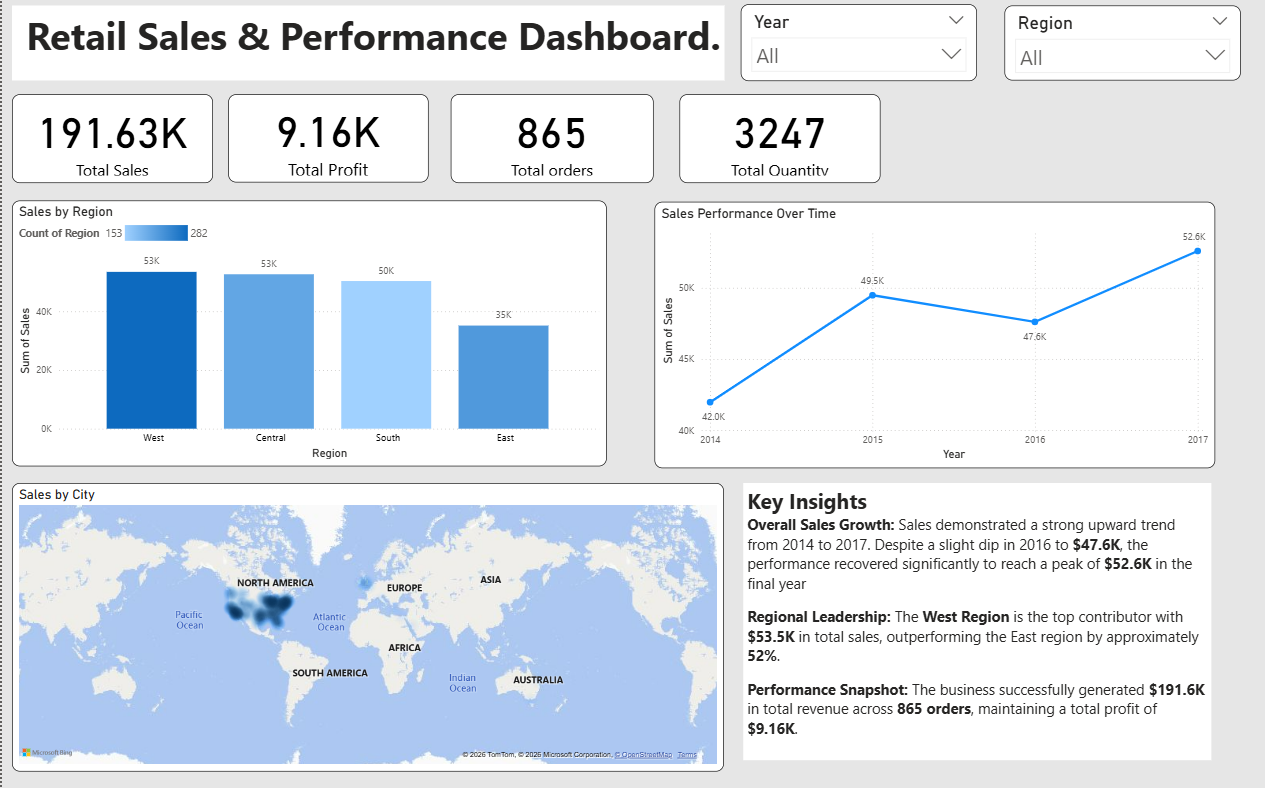

What the dashboard file says about the page in this screenshot:
{"tool":"powerbi","page":{"name":"Executive Overview","canvas":[1606,1005],"ordinal":0},"visuals":[{"type":"card","fields":{"Values":["Sum(Sample - Superstore.Sales)"]},"box":[12.5,122.5,255,112.5],"z":0},{"type":"textbox","box":[12.5,10,905,95],"z":1000},{"type":"card","fields":{"Values":["Sum(Sample - Superstore.Profit)"]},"box":[288,122,254,112],"z":2000},{"type":"card","fields":{"Values":["Count(Sample - Superstore.Order ID)"]},"box":[570,122.5,257.5,112.5],"z":3000},{"type":"areaChart","title":"Sales Performance Over Time","fields":{"Y":["Sum(Sample - Superstore.Sales)"],"Category":["Sample - Superstore.Order Date.Variation.Date Hierarchy.Year"]},"box":[828,258,712,338],"z":4000},{"type":"columnChart","title":"Sales by Region","fields":{"Category":["Sample - Superstore.Region"],"Y":["Sum(Sample - Superstore.Sales)"]},"box":[12.5,257.5,755,337.5],"z":5000},{"type":"card","fields":{"Values":["Sum(Sample - Superstore.Quantity)"]},"box":[860,122.5,255,112.5],"z":6000},{"type":"map","title":"Sales by City","fields":{"Category":["Sample - Superstore.City"],"Size":["Sum(Sample - Superstore.Sales)"]},"box":[12,616,904,366],"z":7000},{"type":"slicer","fields":{"Values":["Sample - Superstore.Order Date.Variation.Date Hierarchy.Year"]},"box":[937.5,7.5,300,97.5],"z":8000},{"type":"slicer","fields":{"Values":["Sample - Superstore.Region"]},"box":[1272.5,10,300,95],"z":9000},{"type":"textbox","box":[942,616,594,352],"z":10000}]}

Visuals, with their boxes in screenshot pixels (x1, y1, x2, y2), scaled from the page's 1606x1005 canvas onto the 1265x788 screenshot:
card - Sum(Sample - Superstore.Sales): box=[10, 96, 211, 184]
textbox: box=[10, 8, 723, 82]
card - Sum(Sample - Superstore.Profit): box=[227, 96, 427, 183]
card - Count(Sample - Superstore.Order ID): box=[449, 96, 652, 184]
"Sales Performance Over Time" areaChart: box=[652, 202, 1213, 467]
"Sales by Region" columnChart: box=[10, 202, 605, 467]
card - Sum(Sample - Superstore.Quantity): box=[677, 96, 878, 184]
"Sales by City" map: box=[9, 483, 722, 770]
slicer - Sample - Superstore.Order Date.Variation.Date Hierarchy.Year: box=[738, 6, 975, 82]
slicer - Sample - Superstore.Region: box=[1002, 8, 1239, 82]
textbox: box=[742, 483, 1210, 759]
